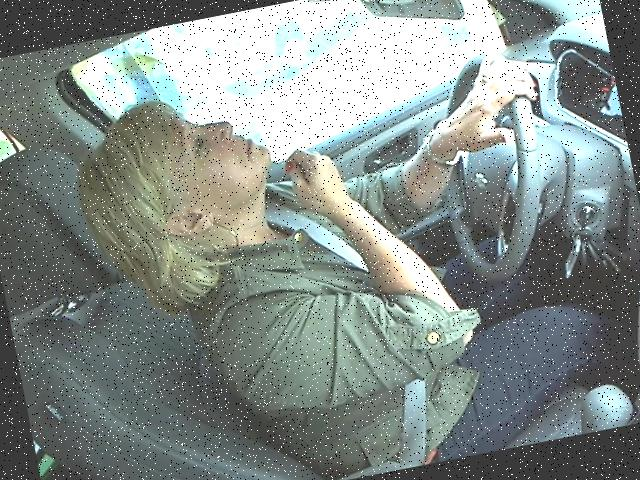c6 - Hair and Makeup: (58, 12, 599, 458)
